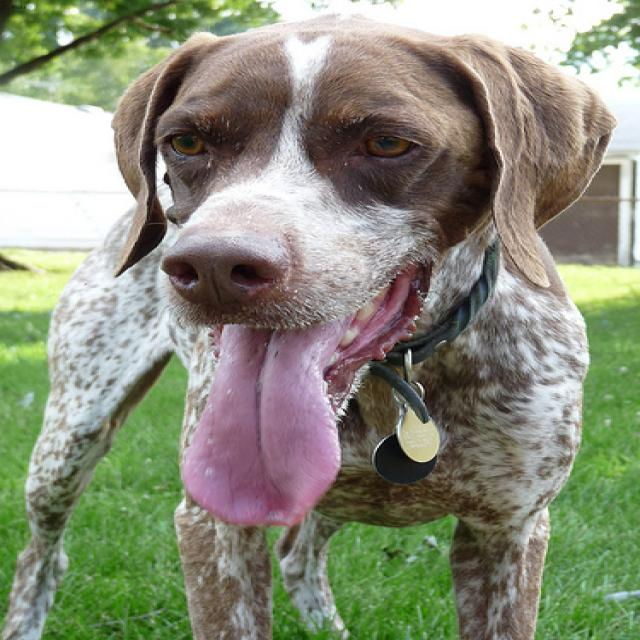dog-german_shorthaired: (2, 1, 637, 637)
